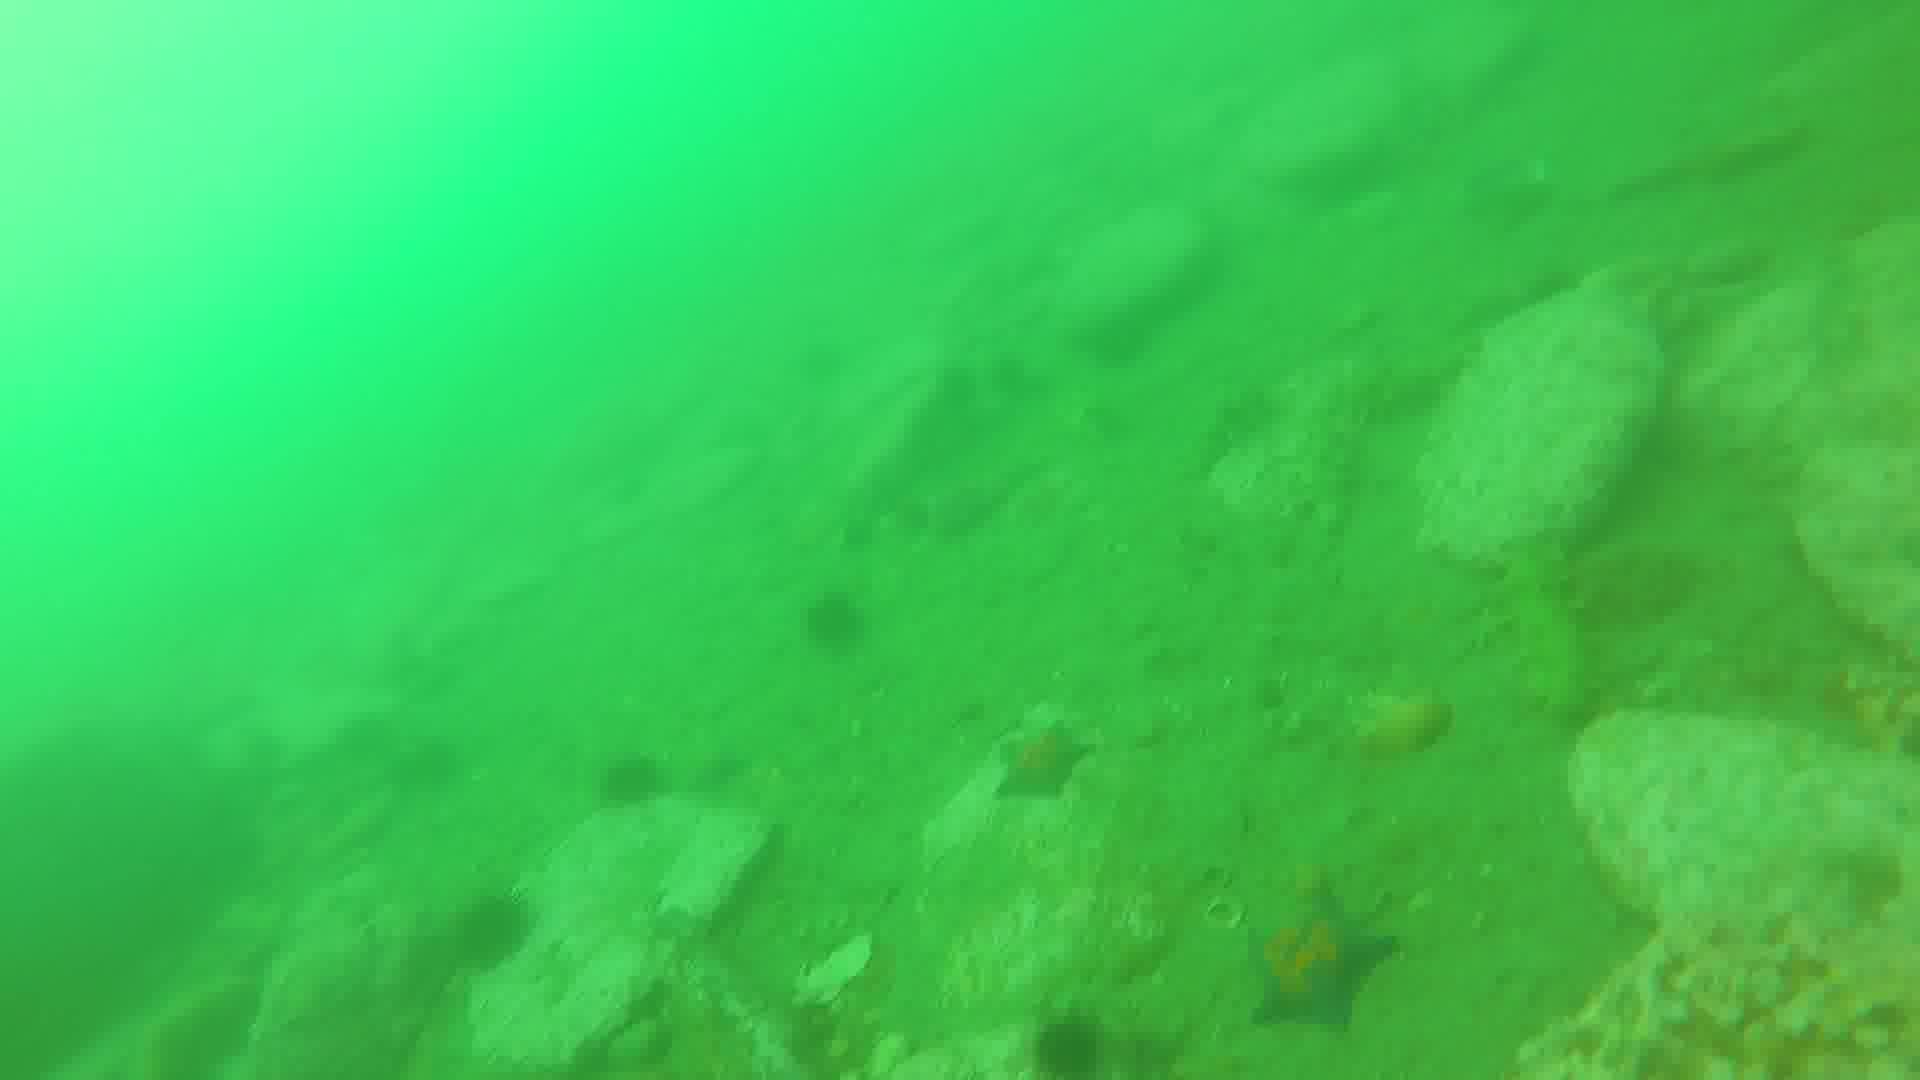echinus: (450, 909, 550, 973), (1034, 1015, 1108, 1077), (603, 756, 669, 811), (812, 593, 872, 651)
holothurian: (1518, 546, 1607, 716)
starfish: (1255, 898, 1395, 1029), (993, 723, 1087, 802)
